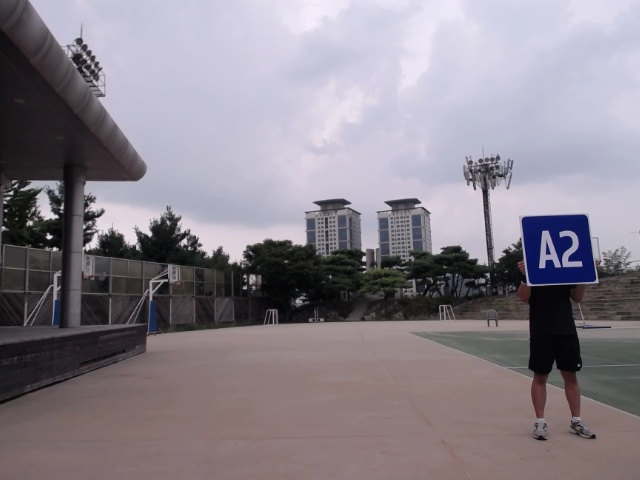delivery_a2: (521, 214, 597, 286)
